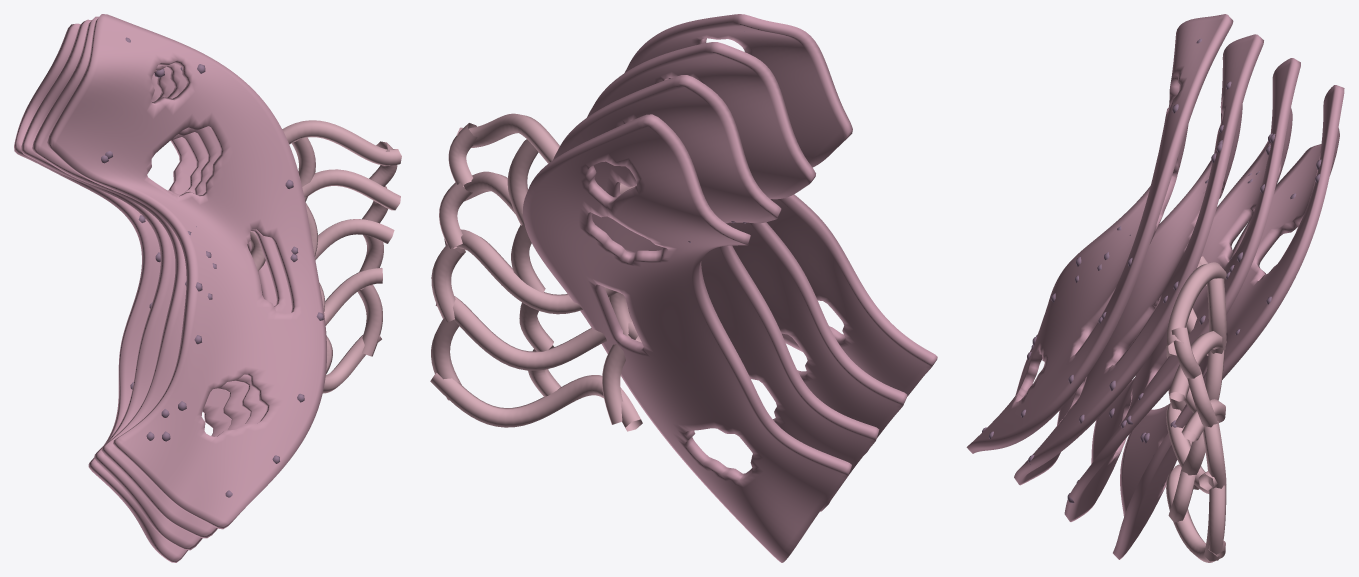
The picture shows the model from 3 angles, left to right: view 1: azimuth 30°, elevation 25°; view 2: azimuth 150°, elevation 25°; view 3: azimuth 270°, elevation 25°; orthographic projection. The views are drawn at different scales.
Parts seen in each view (by area): view 1: rough-ER-fenestrated-cisternae, smooth-ER-interconnected-tubules, surface-bound-ribosomes; view 2: rough-ER-fenestrated-cisternae, smooth-ER-interconnected-tubules; view 3: rough-ER-fenestrated-cisternae, smooth-ER-interconnected-tubules, surface-bound-ribosomes.
Boxes of the visible parts, x1,y1,x2,y2 form: rough-ER-fenestrated-cisternae: (14,14,326,562); smooth-ER-interconnected-tubules: (249,120,401,393); surface-bound-ribosomes: (101,37,323,497); rough-ER-fenestrated-cisternae: (523,14,937,562); smooth-ER-interconnected-tubules: (430,113,642,431); rough-ER-fenestrated-cisternae: (966,14,1344,559); smooth-ER-interconnected-tubules: (1166,256,1226,562); surface-bound-ribosomes: (982,38,1321,503).
Size of the model in its own units: 5.94 by 8.33 by 5.34.
